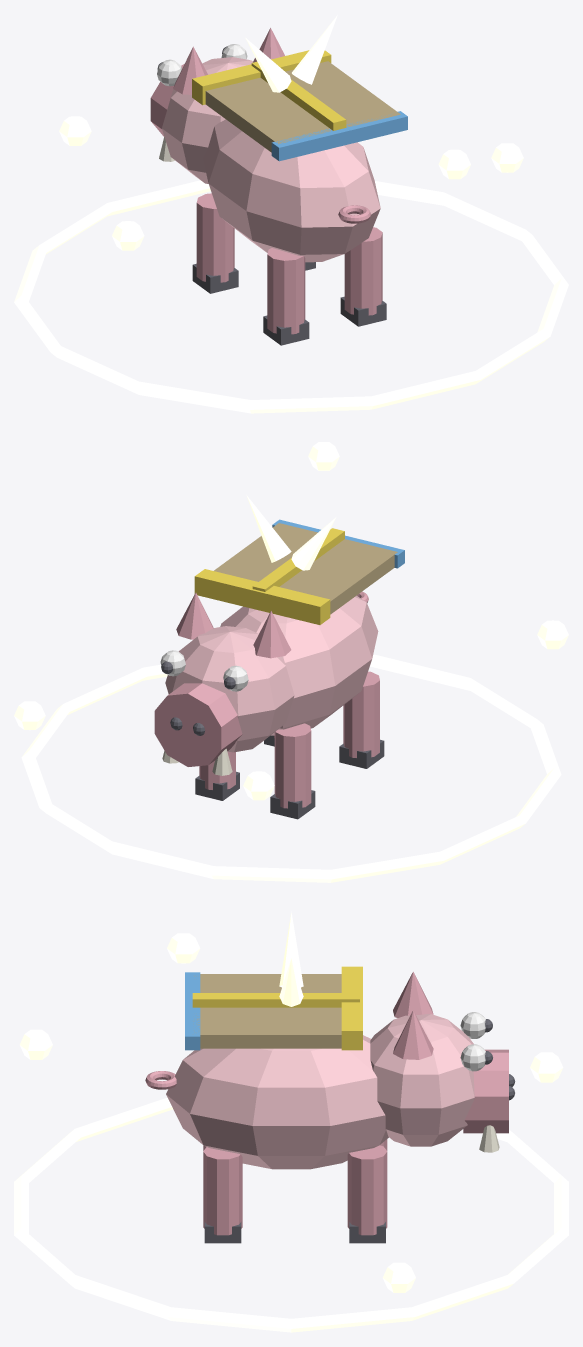
Rendered from evolved_royal_hogs.glb.
3 renders of one model, top to bottom at view 1: azimuth 30°, elevation 25°; view 2: azimuth 150°, elevation 25°; view 3: azimuth 270°, elevation 25°, orthographic. The views are drawn at different scales.
Visible parts, largest first — view 1: evolved_royal_hogs; view 2: evolved_royal_hogs; view 3: evolved_royal_hogs.
Boxes of the visible parts, x1,y1,x2,y2 form: evolved_royal_hogs: (14,15,568,413); evolved_royal_hogs: (14,442,568,882); evolved_royal_hogs: (14,911,568,1332).
Bounding box in the file's own units: 4.11 × 2.25 × 4.01.
